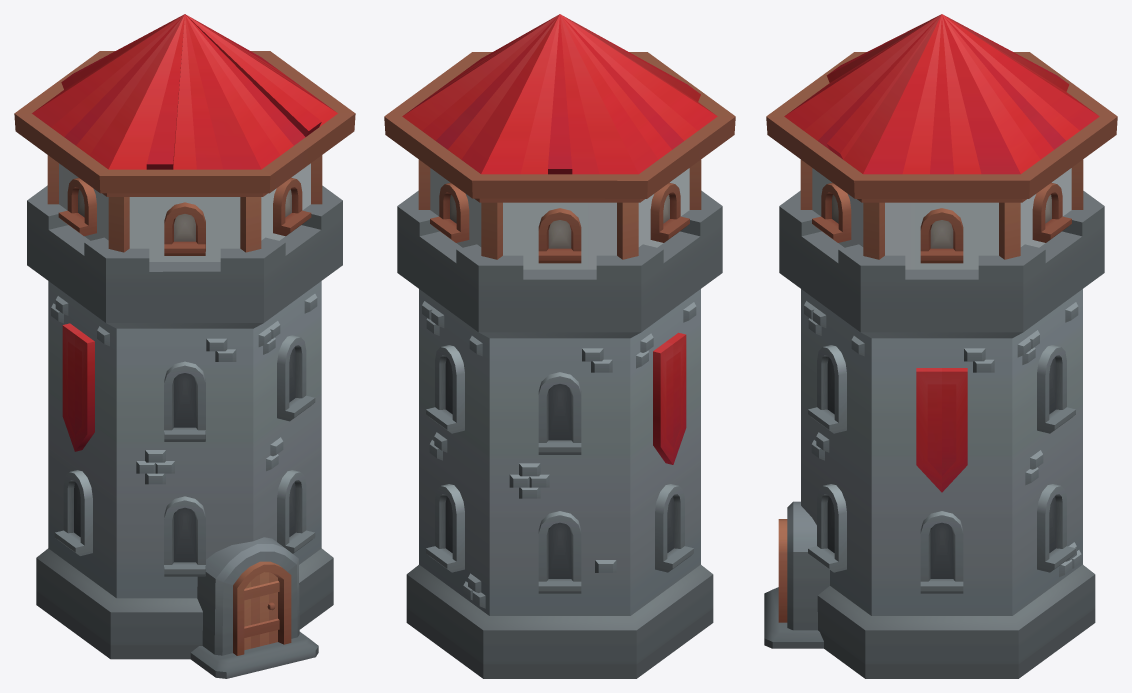
The model's file is k-tower-a-kaykit.glb.
3 renders of one model, left to right at view 1: azimuth 30°, elevation 25°; view 2: azimuth 150°, elevation 25°; view 3: azimuth 270°, elevation 25°, orthographic. The views are drawn at different scales.
Parts seen in each view (by area): view 1: building_tower_A_red, building_tower_A_top_red; view 2: building_tower_A_red, building_tower_A_top_red; view 3: building_tower_A_red, building_tower_A_top_red.
Boxes of the visible parts, x1,y1,x2,y2 form: building_tower_A_red: (27, 185, 342, 678); building_tower_A_top_red: (14, 14, 355, 261); building_tower_A_red: (397, 190, 722, 678); building_tower_A_top_red: (384, 14, 735, 269); building_tower_A_red: (764, 190, 1104, 678); building_tower_A_top_red: (766, 14, 1117, 269).
Bounding box in the file's own units: 0.9933 × 2.19 × 1.15.
Materials: 1 (1 with a texture image).
